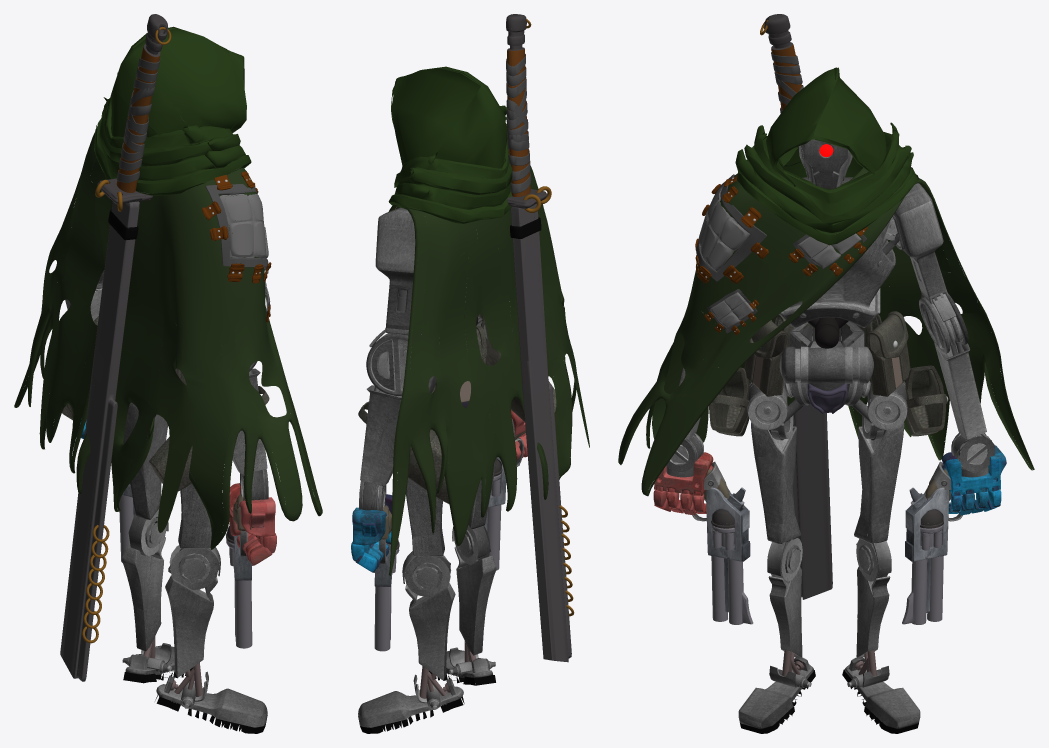
The model's file is robot-killer_model.glb.
3 renders of one model, left to right at view 1: azimuth 30°, elevation 25°; view 2: azimuth 150°, elevation 25°; view 3: azimuth 270°, elevation 25°, orthographic. The views are drawn at different scales.
Parts seen in each view (by area): view 1: Plane.017, Cube.023, Plane.019, Plane.018, Cube.003, Cube.002, Plane.024, Circle.005, Cube.007, Circle.040, Circle.034, Cylinder.003 (+11 smaller); view 2: Plane.017, Cube.023, Plane.019, Plane.018, Cube.003, Cube.004, Cube.010, Cube.002, Circle.005, Circle.040, Cube.007, Circle.034 (+13 smaller); view 3: Plane.017, Plane.018, Cube.002, Plane.019, Cube.023, Plane.013, Cube, Cube.003, Circle.034, Cube.007, Plane.014, Cube.017 (+29 smaller).
Boxes of the visible parts, <box> form: Plane.017: <box>14,121,322,549</box>; Cube.023: <box>60,201,139,681</box>; Plane.019: <box>110,26,246,137</box>; Plane.018: <box>94,72,251,195</box>; Cube.003: <box>122,537,217,677</box>; Cube.002: <box>123,402,211,548</box>; Plane.024: <box>205,184,268,270</box>; Circle.005: <box>128,509,218,591</box>; Cube.007: <box>125,645,267,727</box>; Circle.040: <box>116,58,160,182</box>; Circle.034: <box>119,495,252,648</box>; Cylinder.003: <box>116,14,167,192</box>; Plane.017: <box>388,161,589,575</box>; Cube.023: <box>510,203,571,662</box>; Plane.019: <box>391,66,507,172</box>; Plane.018: <box>388,105,512,223</box>; Cube.003: <box>405,546,496,680</box>; Cube.004: <box>375,207,498,335</box>; Cube.010: <box>360,306,510,485</box>; Cube.002: <box>406,457,497,556</box>; Circle.005: <box>404,525,490,597</box>; Circle.040: <box>506,54,531,193</box>; Cube.007: <box>358,650,492,727</box>; Circle.034: <box>374,505,501,651</box>; Plane.017: <box>618,161,1034,496</box>; Plane.018: <box>735,122,918,245</box>; Cube.002: <box>751,408,904,543</box>; Plane.019: <box>766,67,886,186</box>; Cube.023: <box>793,399,832,599</box>; Plane.013: <box>744,311,910,396</box>; Cube: <box>780,177,895,327</box>; Cube.003: <box>768,566,890,657</box>; Circle.034: <box>711,556,943,624</box>; Cube.007: <box>738,664,920,728</box>; Plane.014: <box>709,365,945,436</box>; Cube.017: <box>706,487,948,561</box>.
Size of the model in its own units: 1.24 by 4.86 by 2.72.
Materials: 57 (33 with a texture image).
